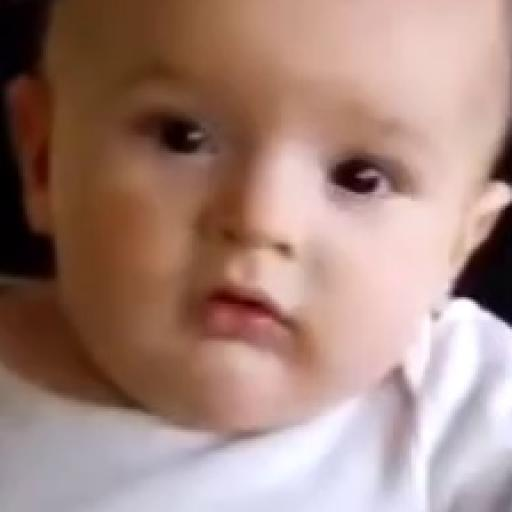Autism: (27, 8, 512, 490)
